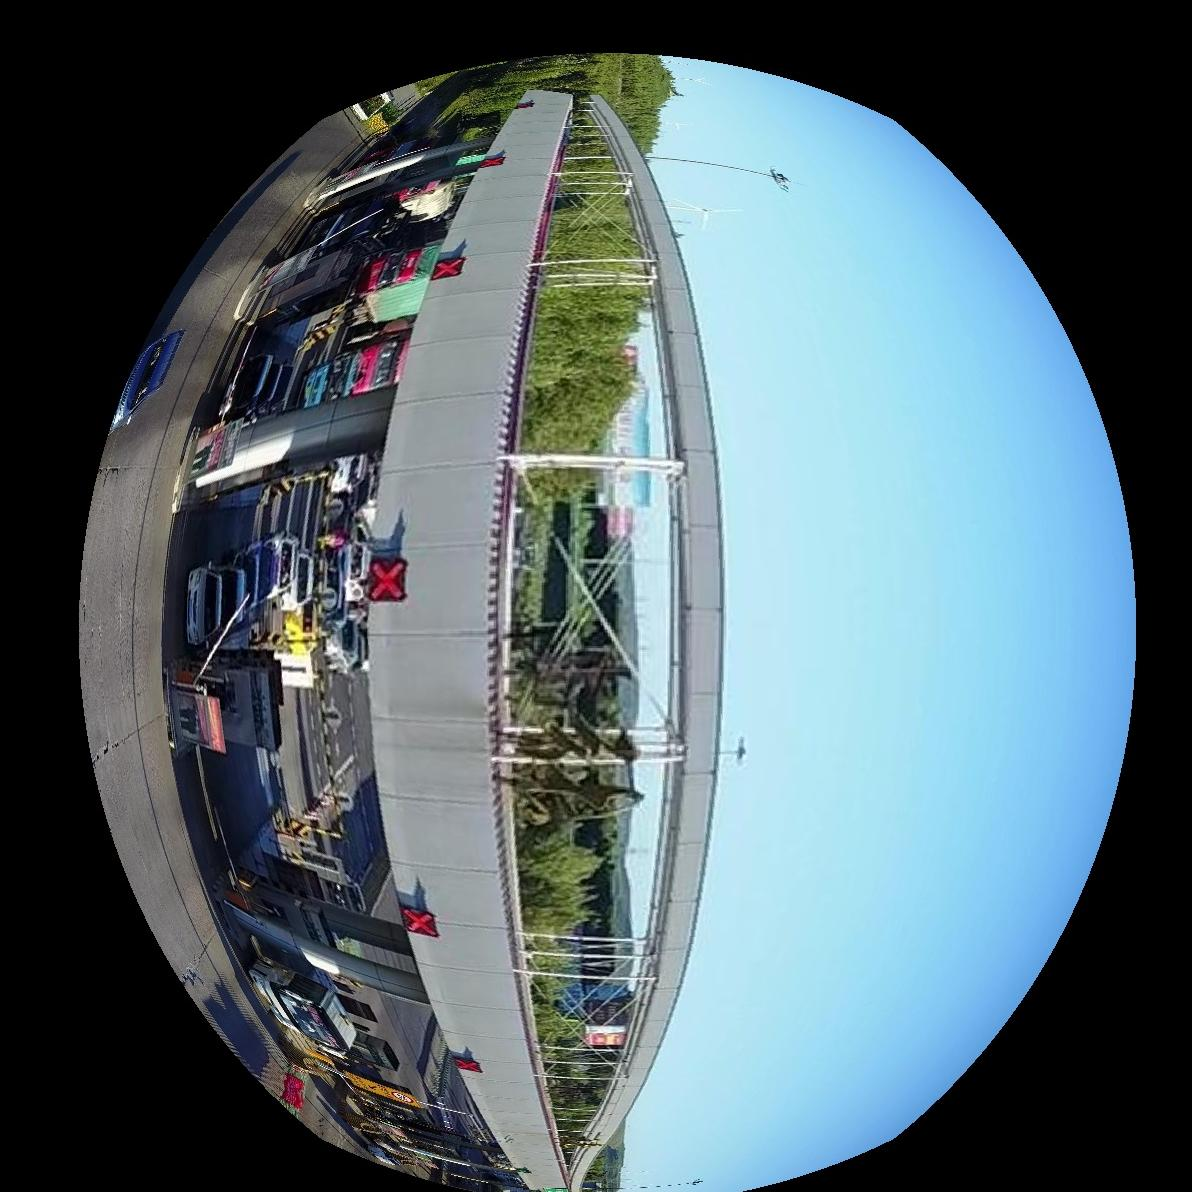building: (150, 89, 723, 1192)
cars: (108, 330, 182, 432)
trees: (494, 602, 685, 1184), (520, 261, 648, 451), (444, 55, 674, 150), (542, 174, 638, 258), (532, 471, 585, 499)
